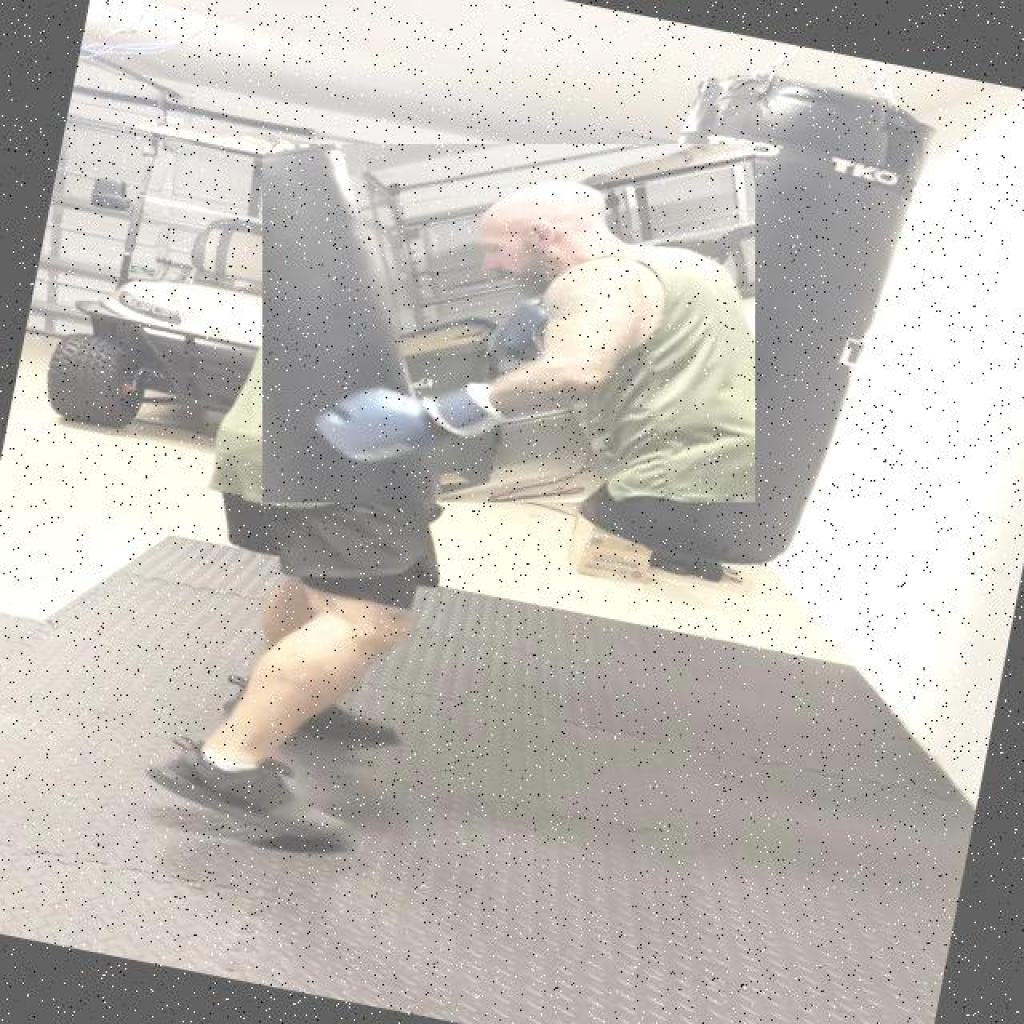bag: (576, 45, 915, 592)
hook: (262, 144, 754, 502)
